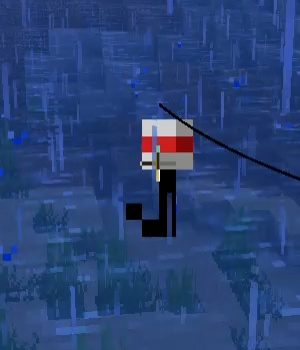up: (126, 108, 199, 243)
